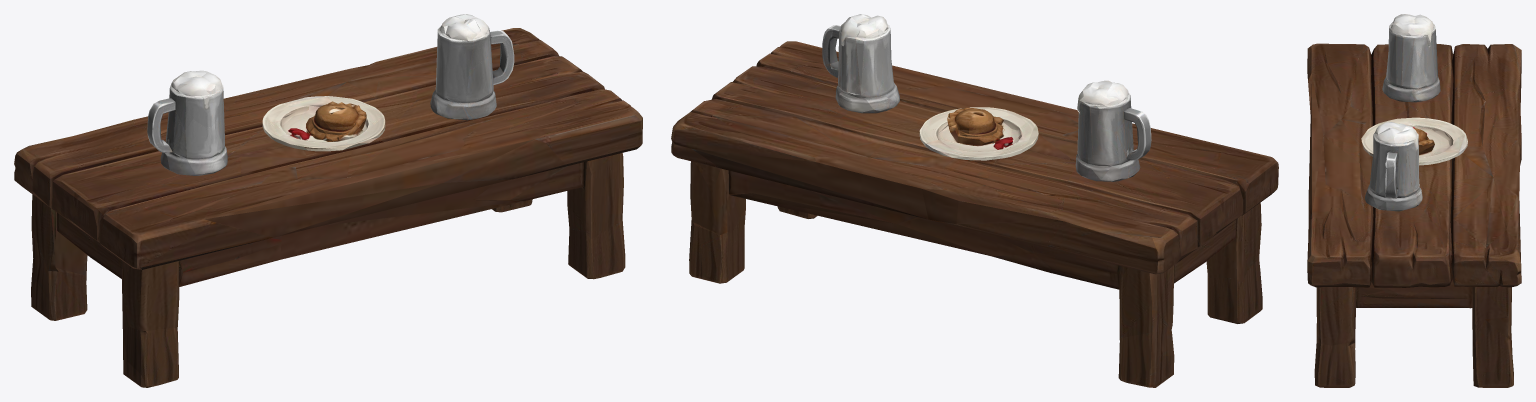
File: tavern_table_3d.glb
3 renders of one model, left to right at view 1: azimuth 30°, elevation 25°; view 2: azimuth 150°, elevation 25°; view 3: azimuth 270°, elevation 25°, orthographic. The views are drawn at different scales.
Visible parts, largest first — view 1: Mesh_0; view 2: Mesh_0; view 3: Mesh_0.
Part boxes in pixels (x1,y1,x2,y2): Mesh_0: [14, 14, 642, 387]; Mesh_0: [671, 14, 1278, 387]; Mesh_0: [1307, 14, 1521, 387].
Bounding box in the file's own units: 1.9 × 0.875 × 0.7974.
1 material, 1 textured.
